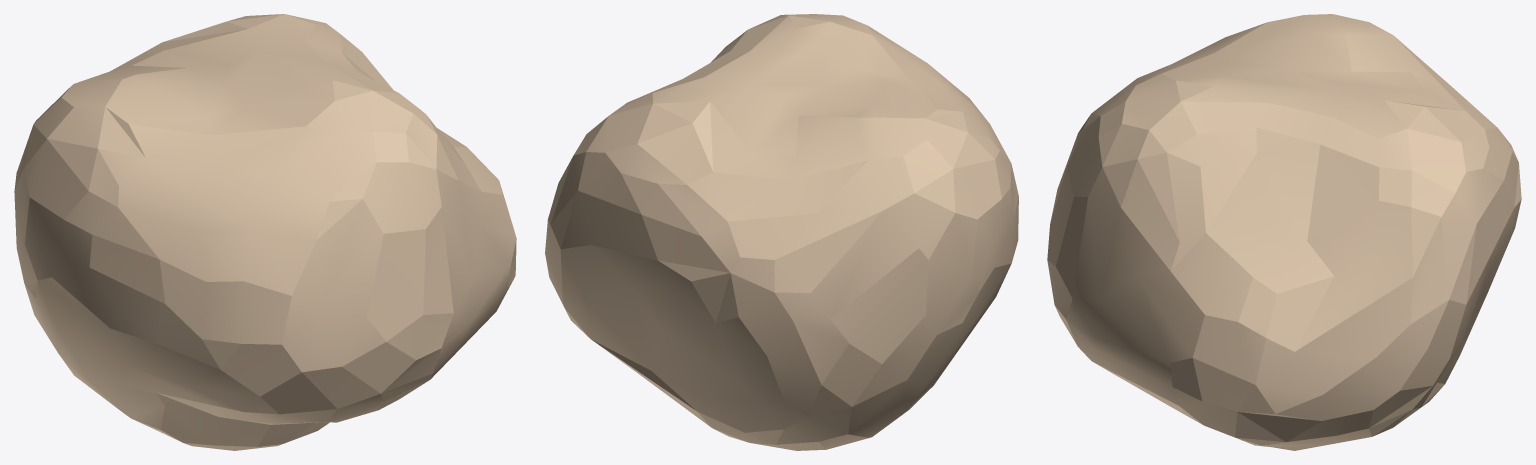
File: rock_01.fbx
3 renders of one model, left to right at view 1: azimuth 30°, elevation 25°; view 2: azimuth 150°, elevation 25°; view 3: azimuth 270°, elevation 25°, orthographic. The views are drawn at different scales.
Parts seen in each view (by area): view 1: GeoSphere002; view 2: GeoSphere002; view 3: GeoSphere002.
Boxes of the visible parts, x1,y1,x2,y2 form: GeoSphere002: (14,14,516,450); GeoSphere002: (545,14,1018,450); GeoSphere002: (1047,14,1521,450).
Bounding box in the file's own units: 106 × 84.83 × 99.02.
